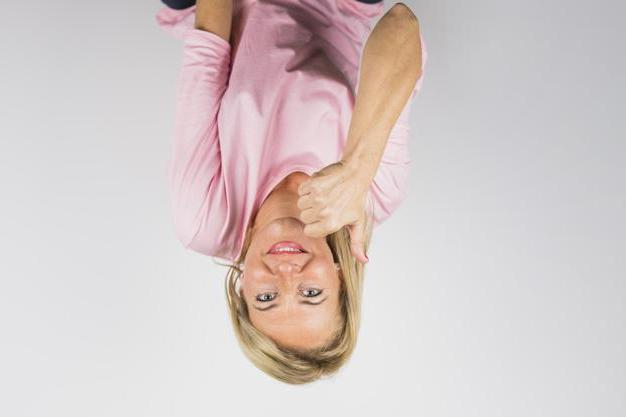thumbsdown: (297, 179, 369, 264)
